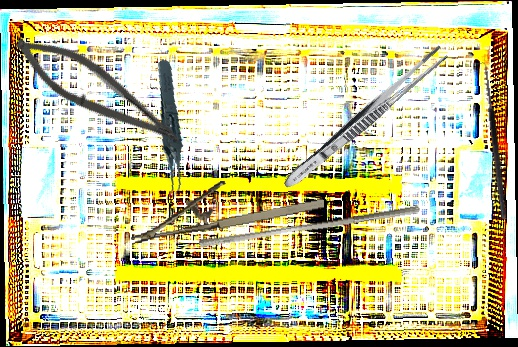Dressing Forceps: (279, 41, 450, 195)
Hook Surgical: (474, 61, 508, 221)
Micro Scissor: (4, 24, 194, 157)
Needle Holder: (124, 165, 326, 245)
Pusher: (198, 196, 421, 256)
Tissue Forceps: (136, 58, 200, 202)
